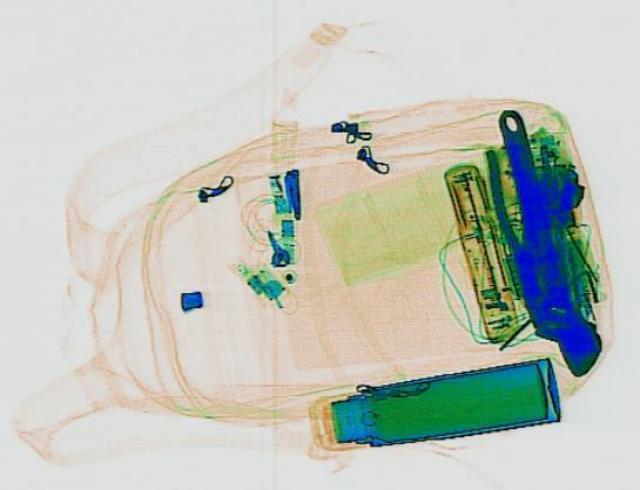Wrench: (471, 104, 609, 378)
